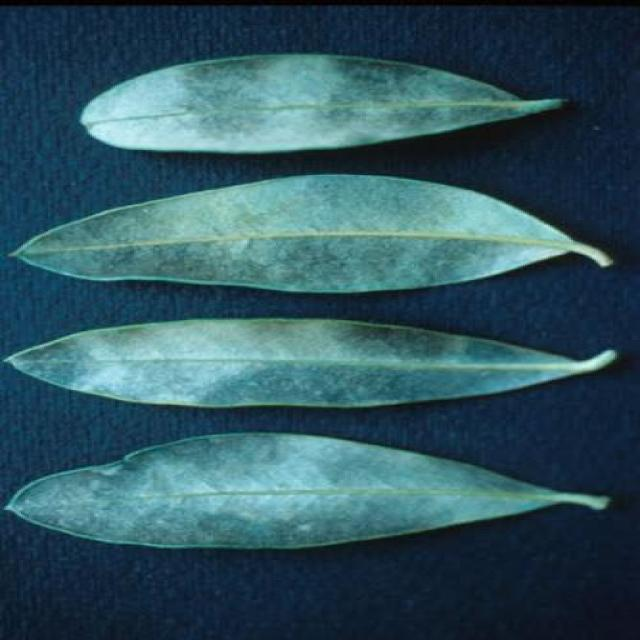Peacock Eye: (8, 434, 584, 548), (21, 175, 581, 292), (8, 319, 615, 408), (80, 54, 563, 154)
